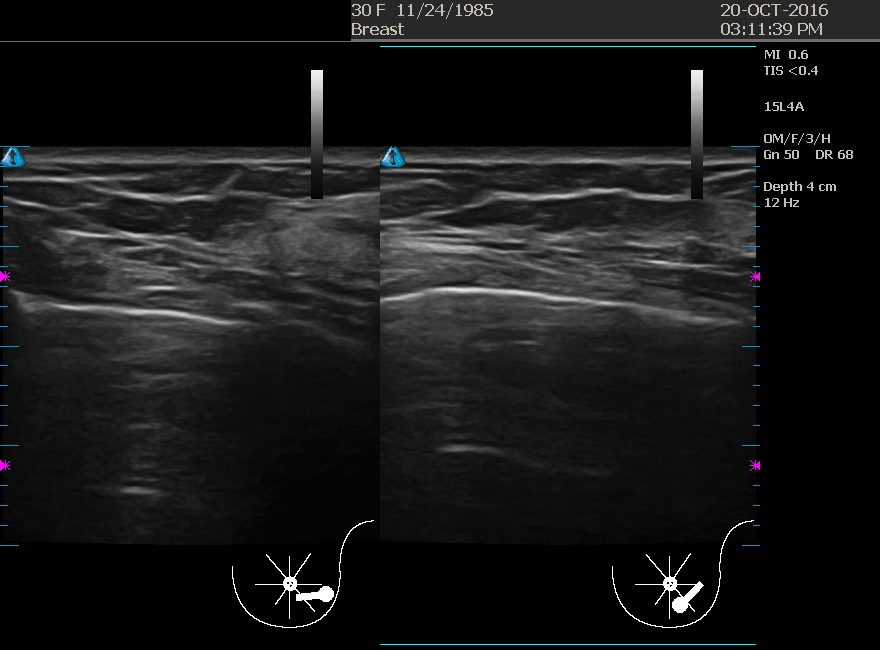BIRADS_3: (88, 155, 288, 355), (451, 151, 651, 351)
